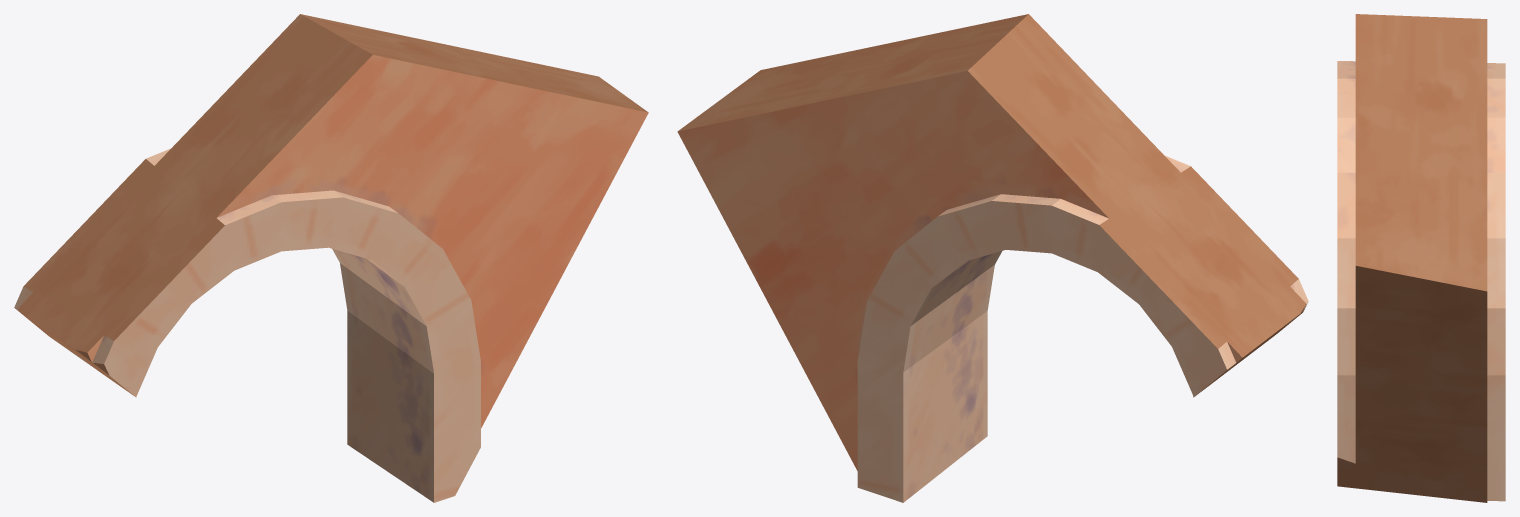
The model's file is wall2_upper_window_s00.fbx.
3 renders of one model, left to right at view 1: azimuth 30°, elevation 25°; view 2: azimuth 150°, elevation 25°; view 3: azimuth 270°, elevation 25°, orthographic. The views are drawn at different scales.
Parts seen in each view (by area): view 1: wall2_upper_window_s00; view 2: wall2_upper_window_s00; view 3: wall2_upper_window_s00.
Boxes of the visible parts, x1,y1,x2,y2 form: wall2_upper_window_s00: [14, 14, 648, 502]; wall2_upper_window_s00: [677, 14, 1308, 502]; wall2_upper_window_s00: [1337, 14, 1505, 502].
Bounding box in the file's own units: 4.96 × 3.73 × 1.28.
